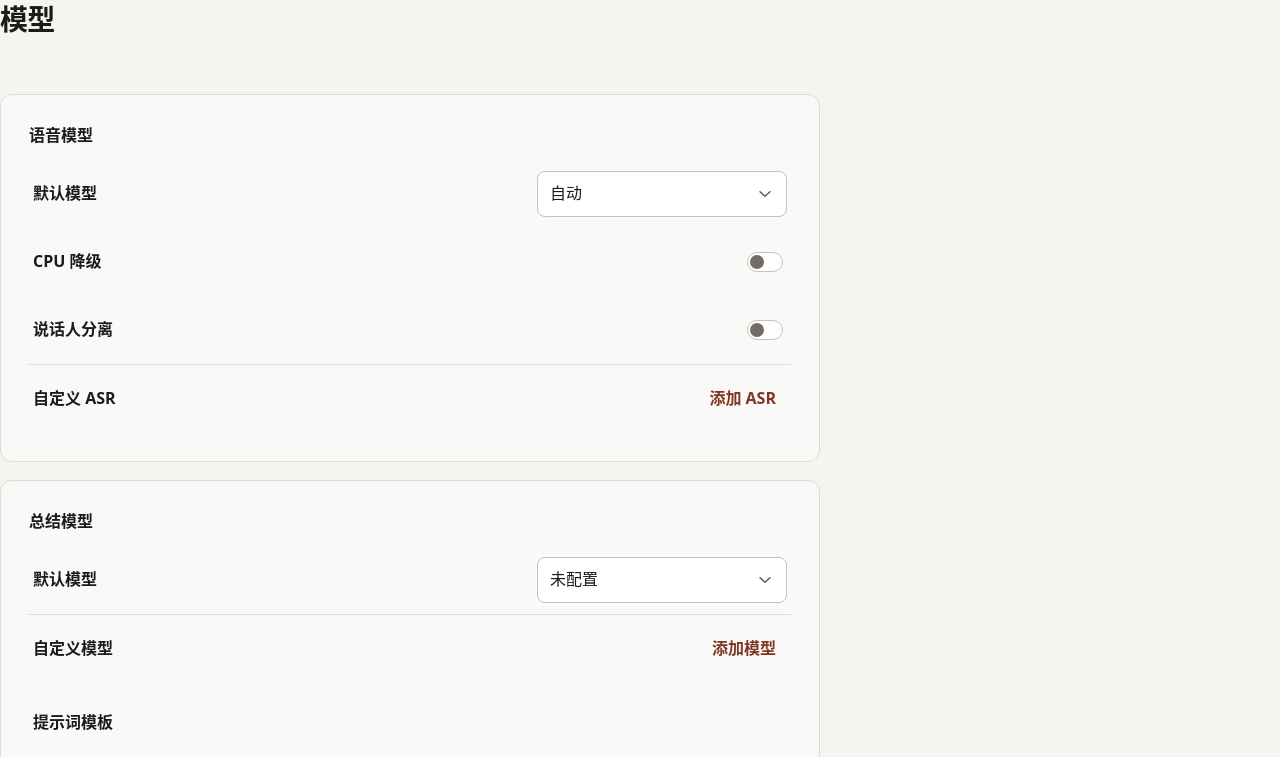
Scenario: ModelSettingsPage › adds a custom summary model from a dialog
The image size is (1280, 757).
Click the button "添加模型" at [744, 649], box left=701, top=629, right=787, bottom=669
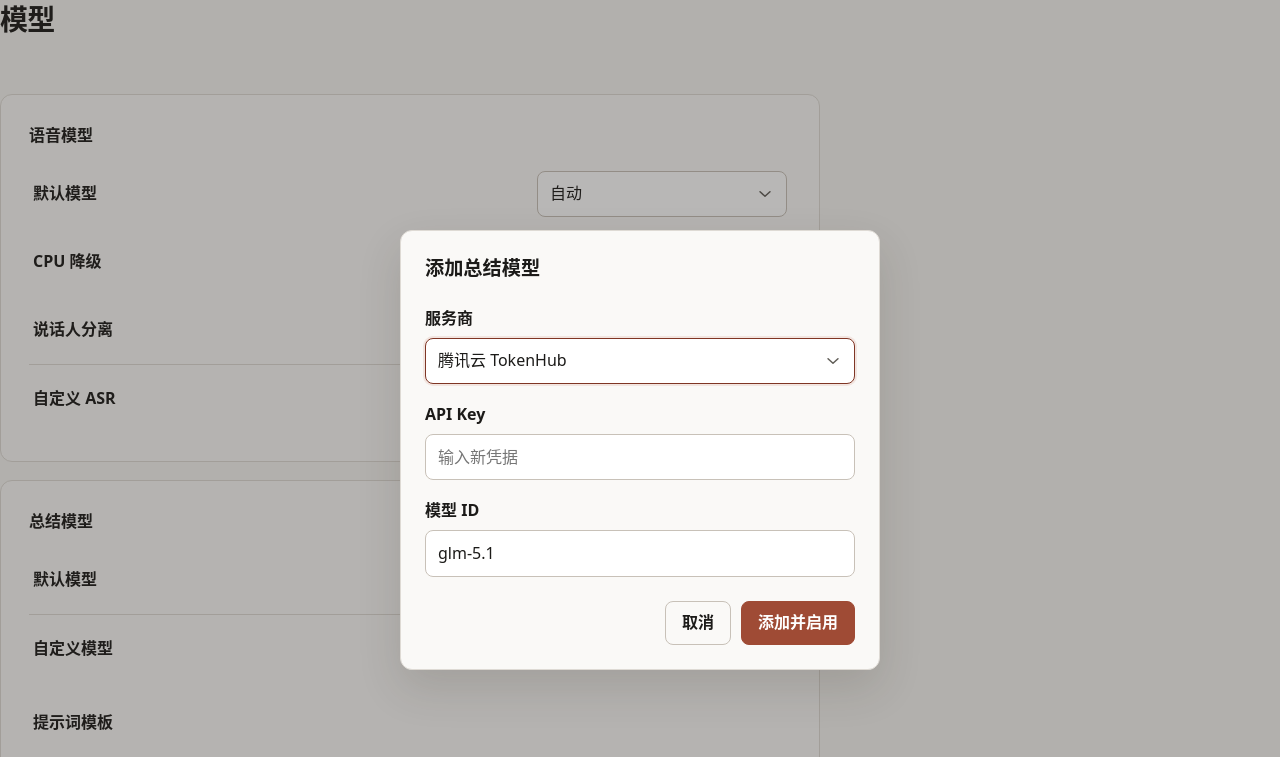
Type "sk-test" into the password field labelled "API Key" at [640, 457], box left=425, top=434, right=855, bottom=480
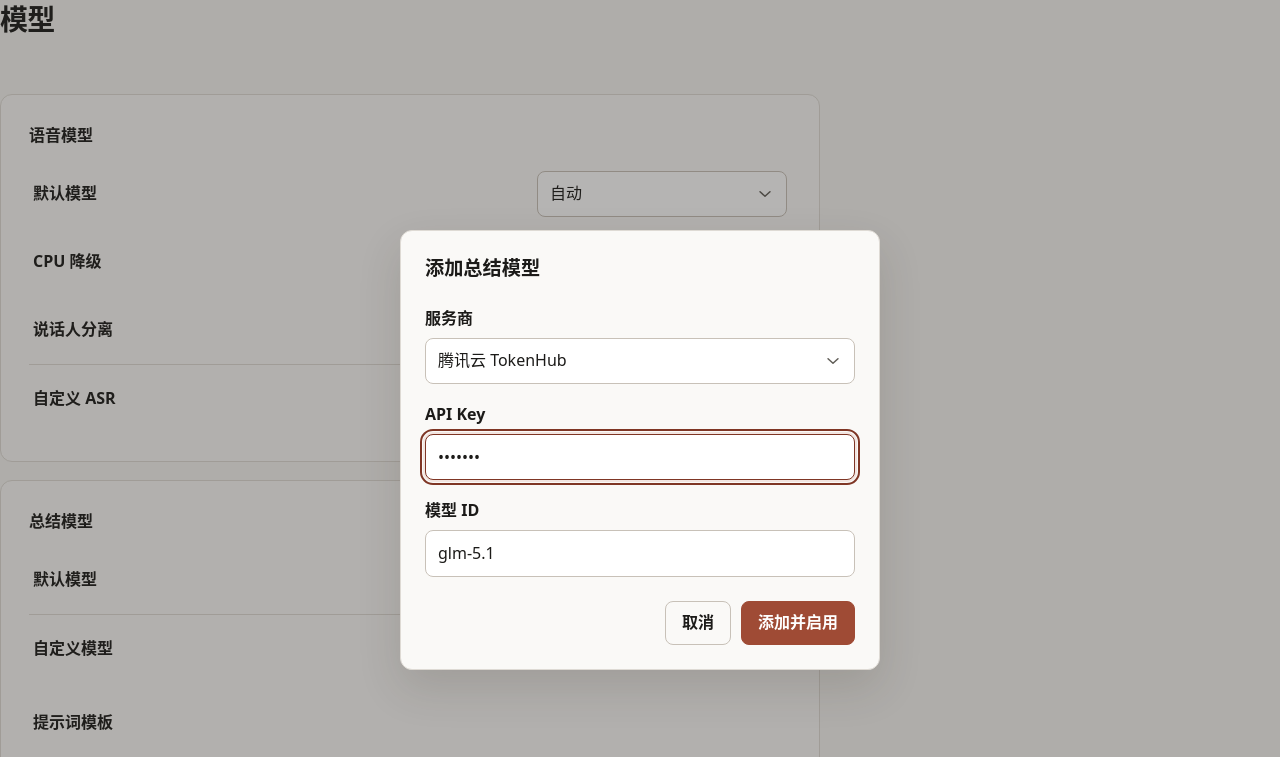
Replace the text in the field labelled "模型 ID" with "custom-model" at [640, 554], box left=425, top=530, right=855, bottom=577
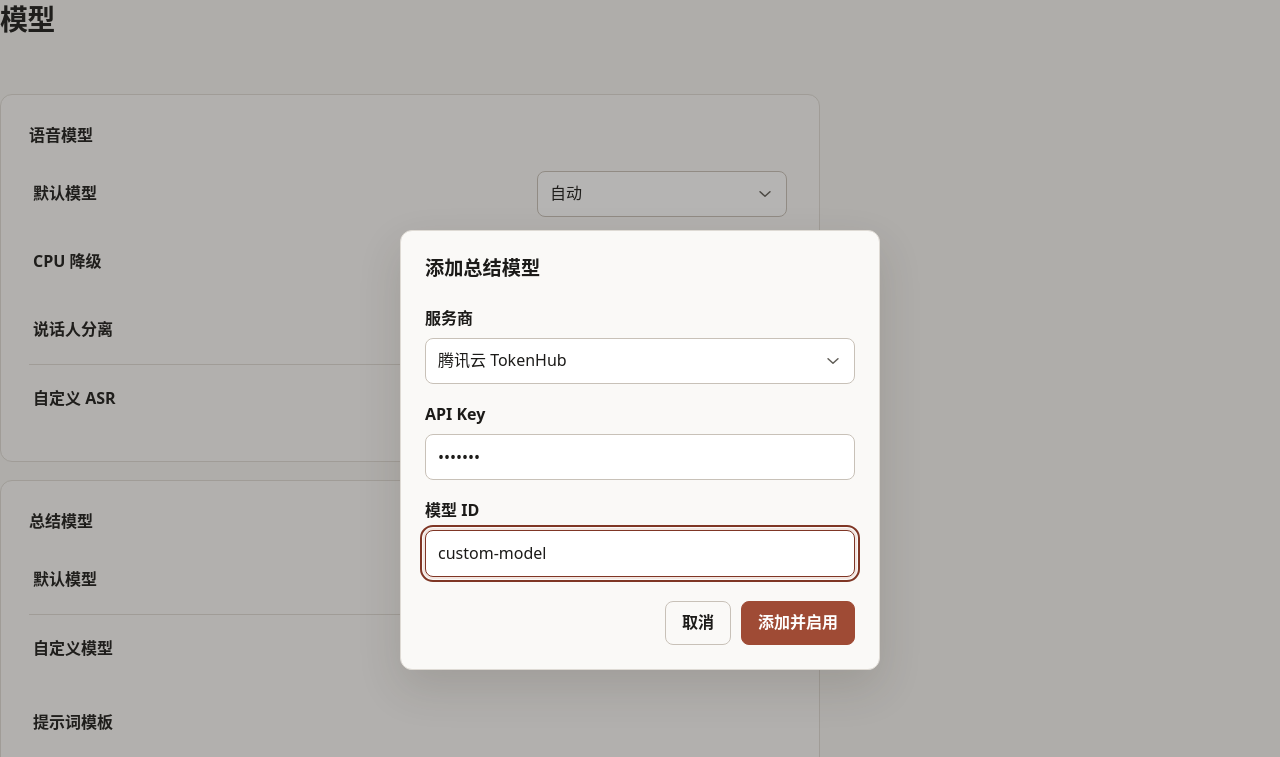
Click the button "添加并启用" at [798, 623], box left=741, top=601, right=855, bottom=645
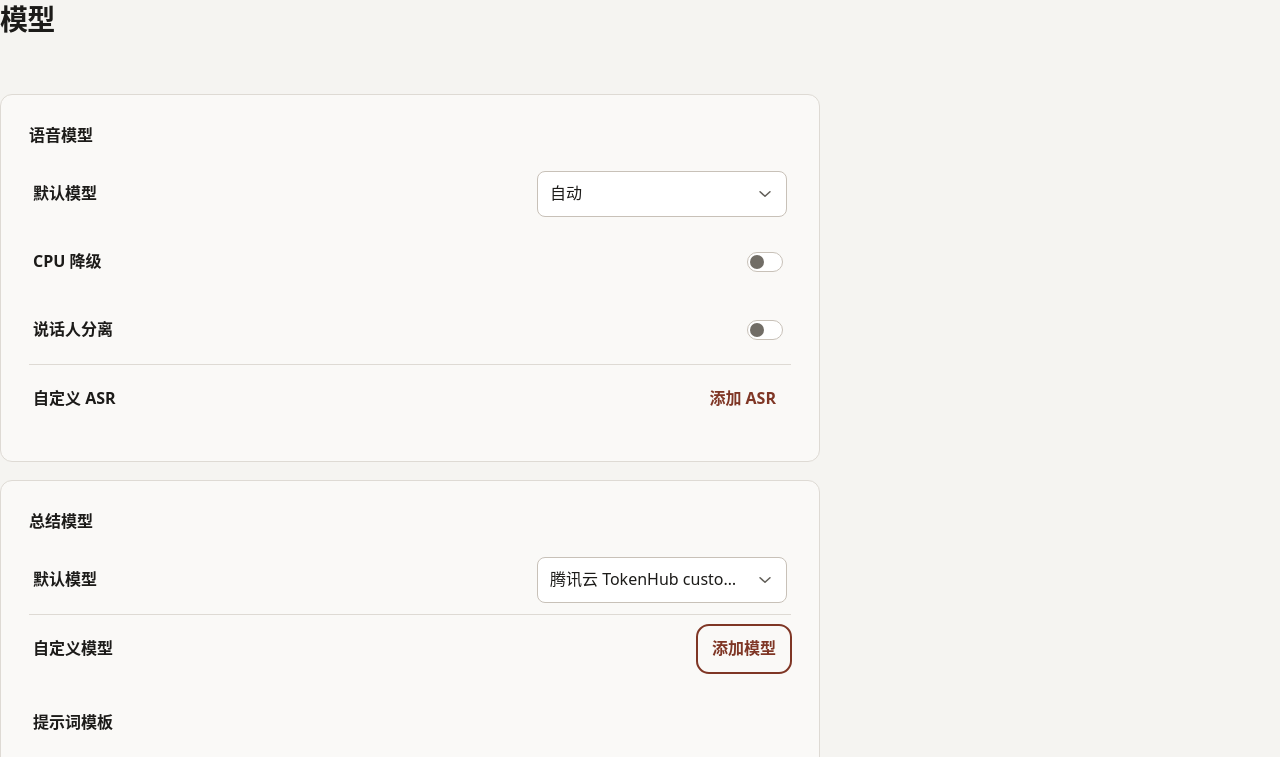
Click the dropdown named "默认总结模型" at [662, 580], box left=537, top=557, right=787, bottom=603
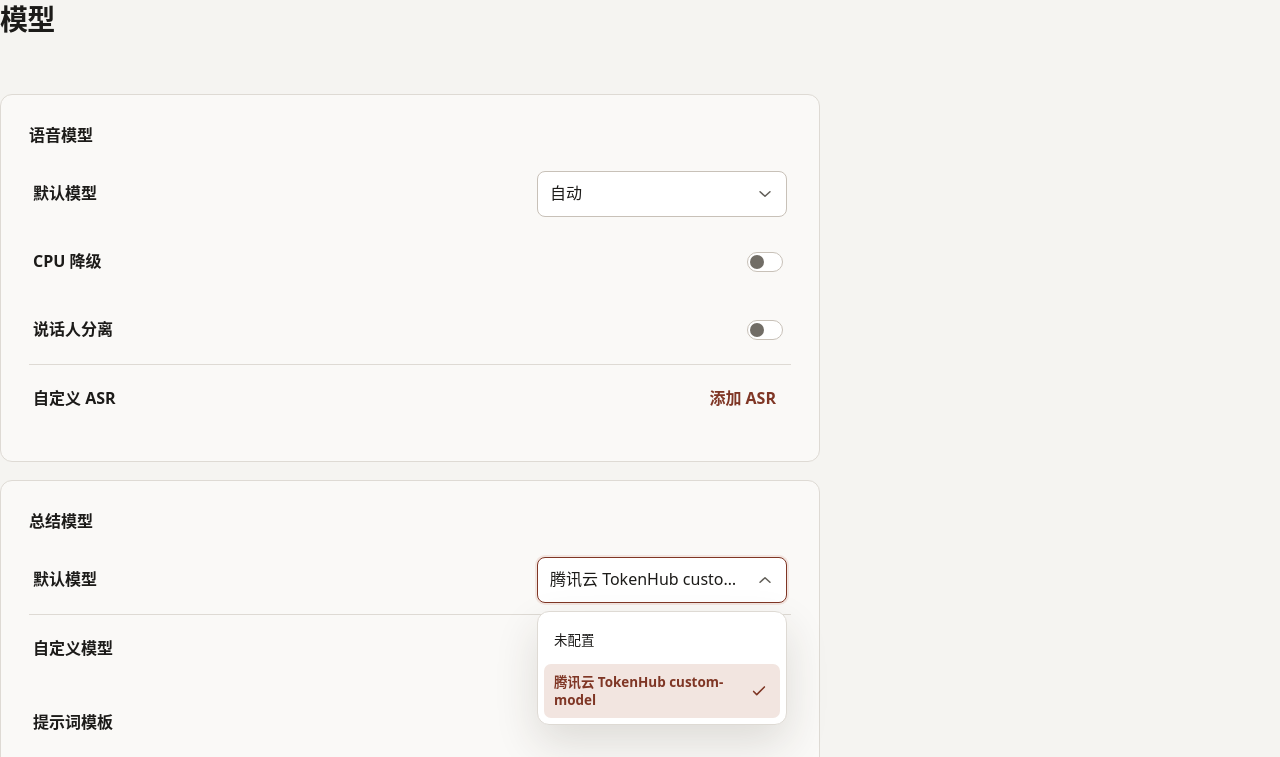
expect the option "腾讯云 TokenHub custom-model" is enabled: met, box left=544, top=664, right=780, bottom=718
